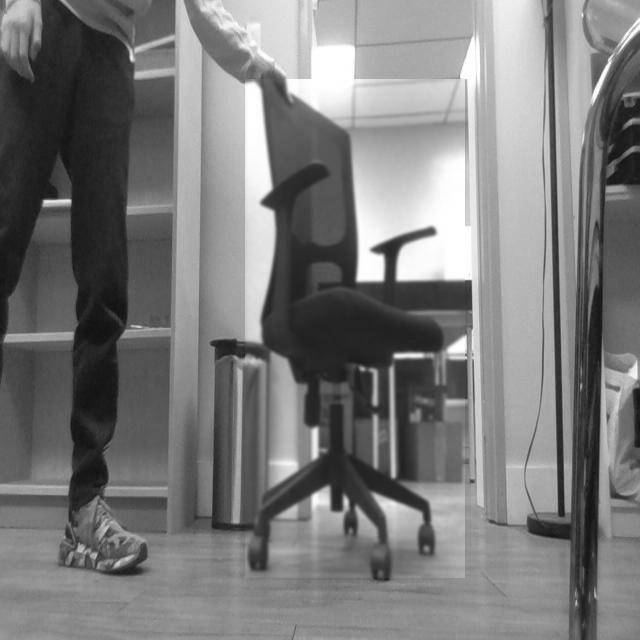chair: (199, 63, 446, 604)
